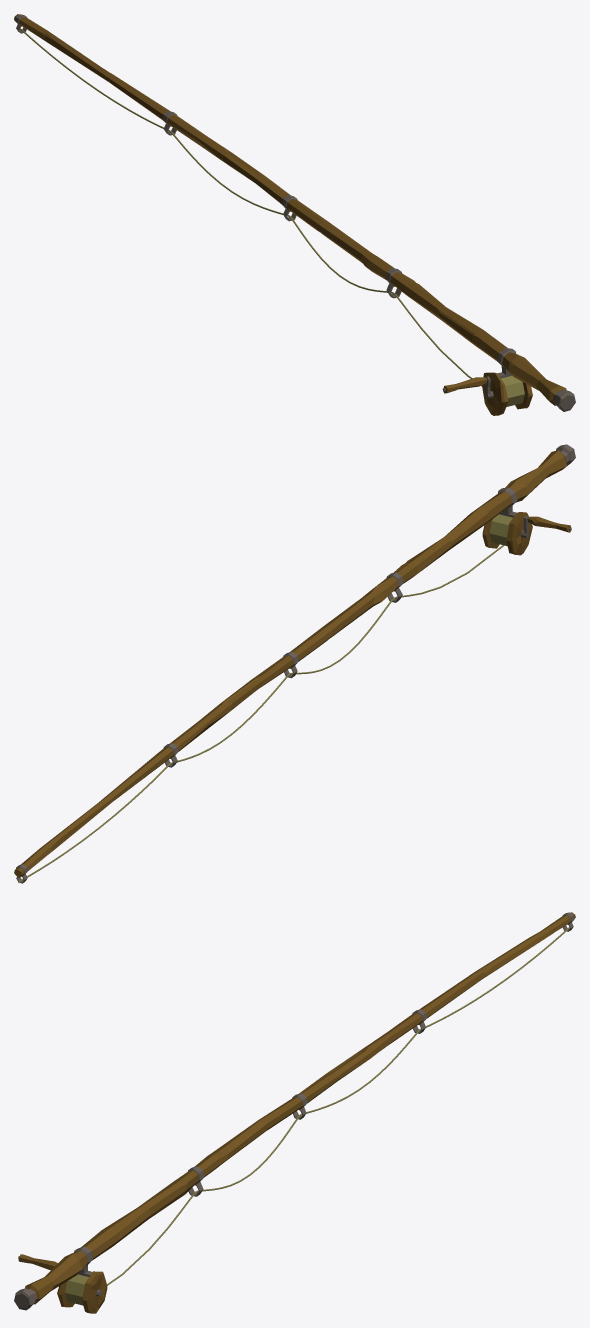
The model's file is fishing_rod.glb.
3 renders of one model, top to bottom at view 1: azimuth 30°, elevation 25°; view 2: azimuth 150°, elevation 25°; view 3: azimuth 330°, elevation 25°, orthographic.
Parts seen in each view (by area): view 1: FishingRod, String; view 2: FishingRod, String; view 3: FishingRod, String.
Part boxes in pixels (x1,y1,x2,y2): FishingRod: (14, 14, 575, 415); String: (20, 28, 482, 386); FishingRod: (14, 444, 575, 883); String: (18, 545, 504, 883); FishingRod: (14, 912, 575, 1313); String: (107, 927, 569, 1285).
Bounding box in the file's own units: 0.1577 × 0.118 × 1.84.
